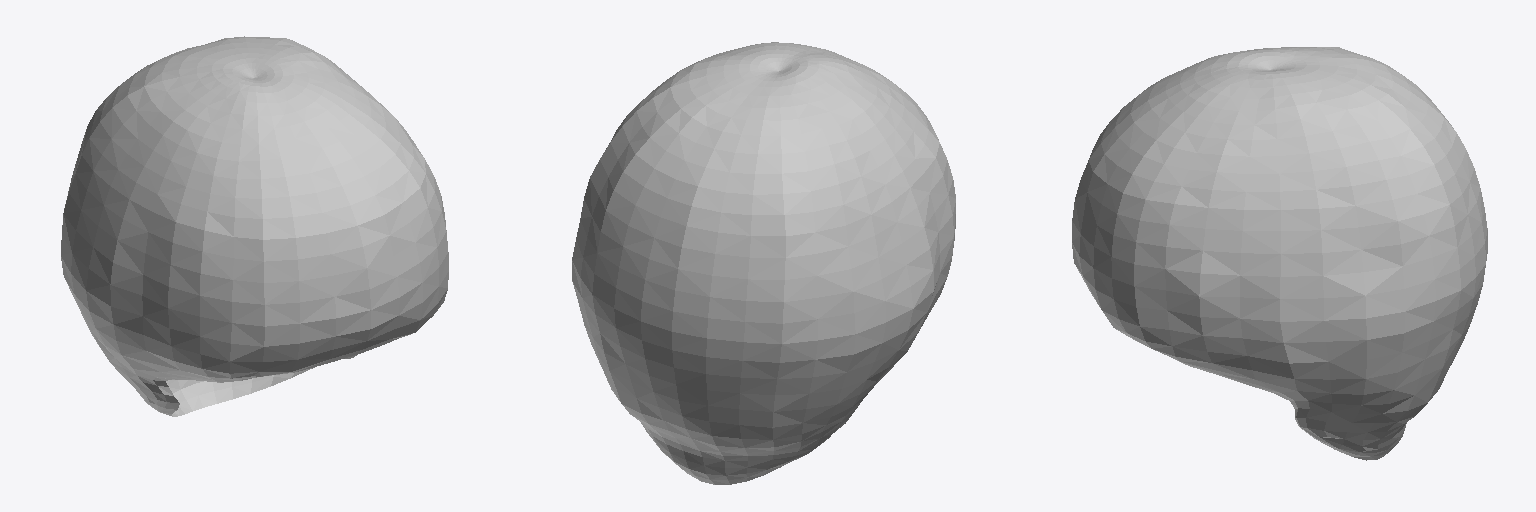
Rendered from cloth3_2.obj.
3 renders of one model, left to right at view 1: azimuth 30°, elevation 25°; view 2: azimuth 150°, elevation 25°; view 3: azimuth 270°, elevation 25°, orthographic.
Visible parts, largest first — view 1: polySurface320 _04:Mesh1; view 2: polySurface320 _04:Mesh1; view 3: polySurface320 _04:Mesh1.
Boxes of the visible parts, x1,y1,x2,y2 form: polySurface320 _04:Mesh1: [61, 36, 448, 416]; polySurface320 _04:Mesh1: [572, 42, 955, 484]; polySurface320 _04:Mesh1: [1072, 47, 1487, 460].
Size of the model in its own units: 1.45 by 1.67 by 1.65.